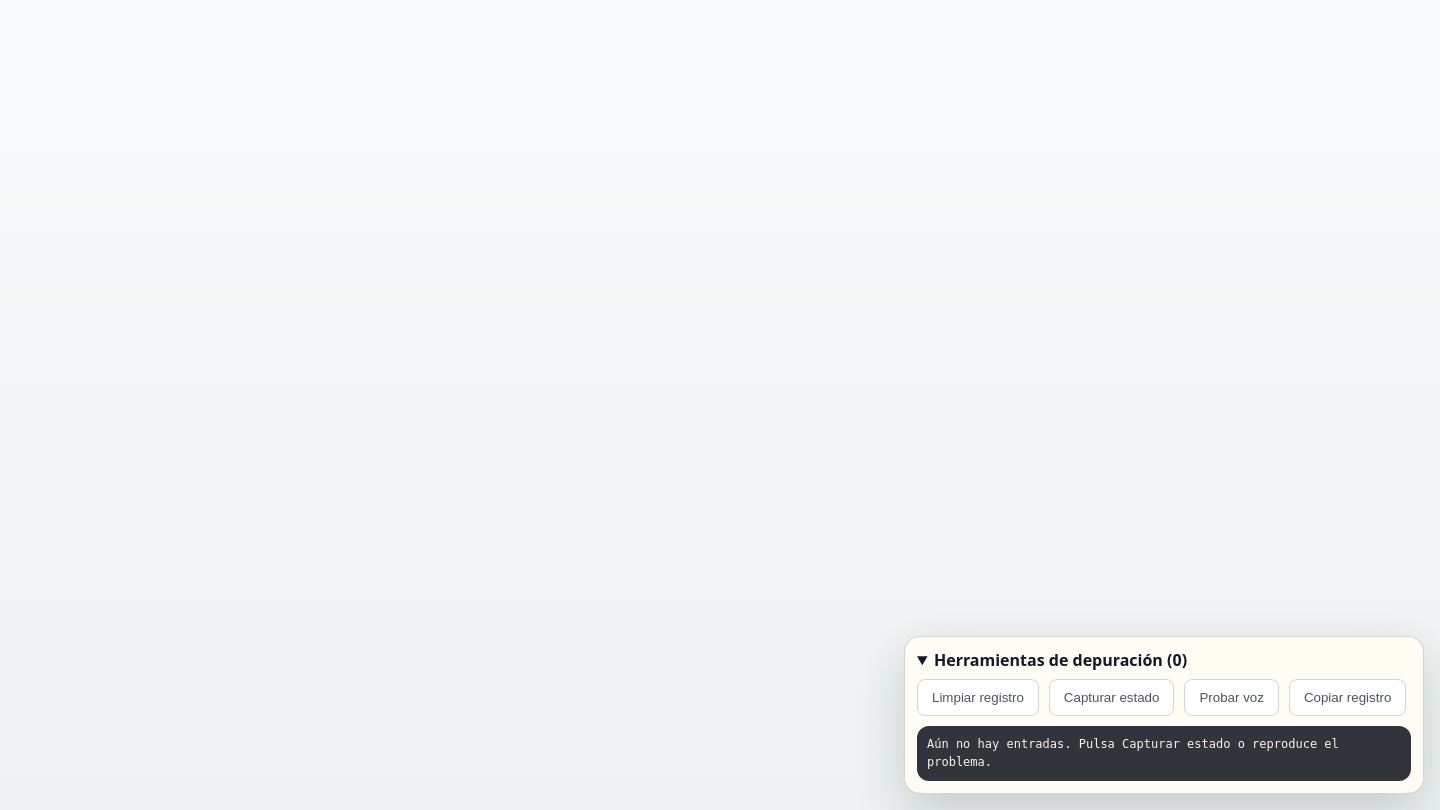
Test: interface localization › translates debug controls and status
The width and height of the screenshot is (1440, 810).
Click the button "Limpiar registro". click: [978, 698]
box: [917,679,1039,716]
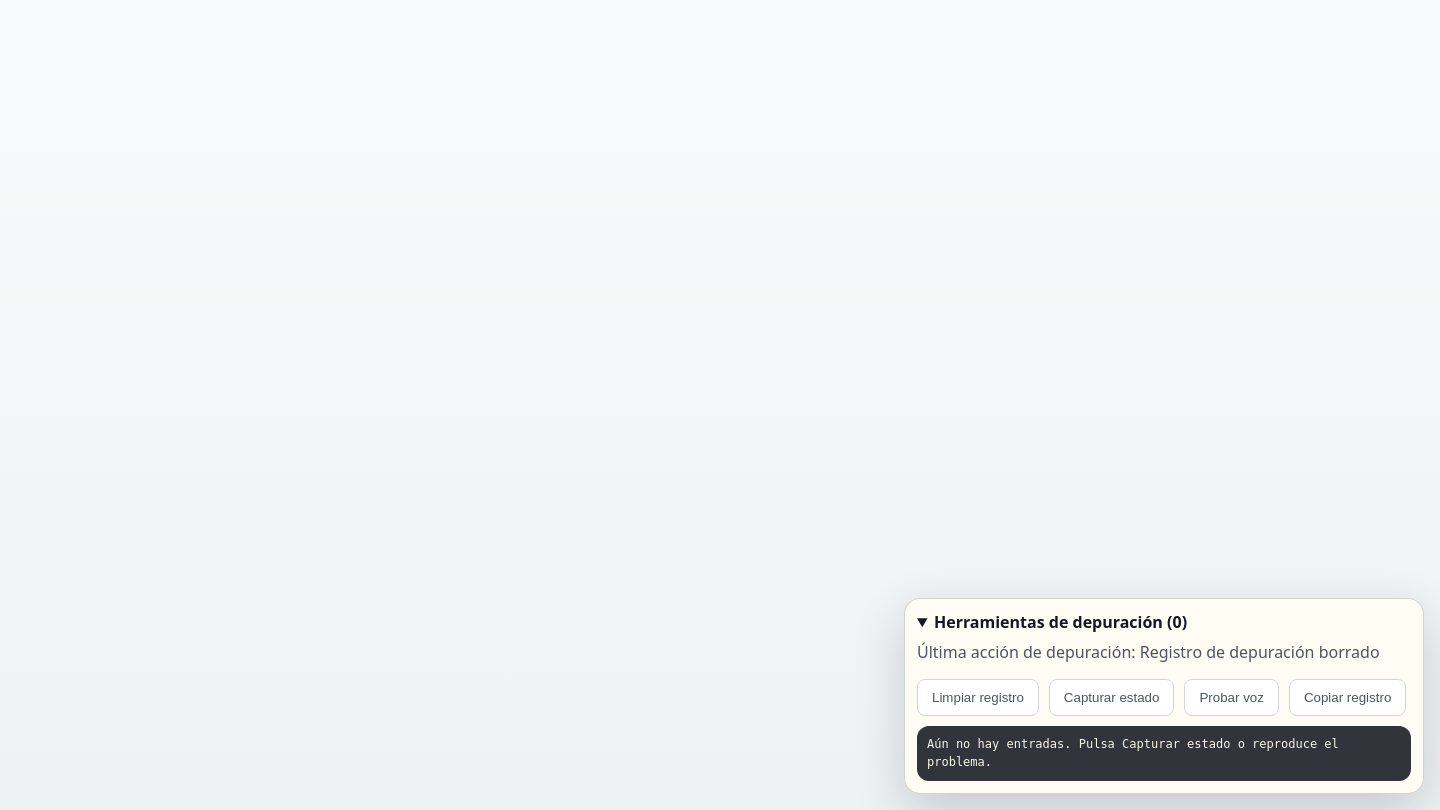
Expected: the button "Probar voz" is shown, [1184,679,1279,716]
Expected: the text "Última acción de depuración: Registro de depuración borrado" is shown, [917,641,1411,663]
